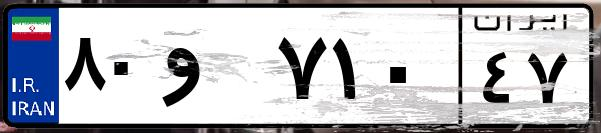0: (385, 28, 445, 110), (110, 28, 158, 98)
1: (330, 28, 385, 110)
4: (475, 38, 525, 113)
7: (270, 28, 330, 110), (525, 38, 570, 115)
8: (57, 26, 110, 100)
و: (158, 20, 270, 120)
